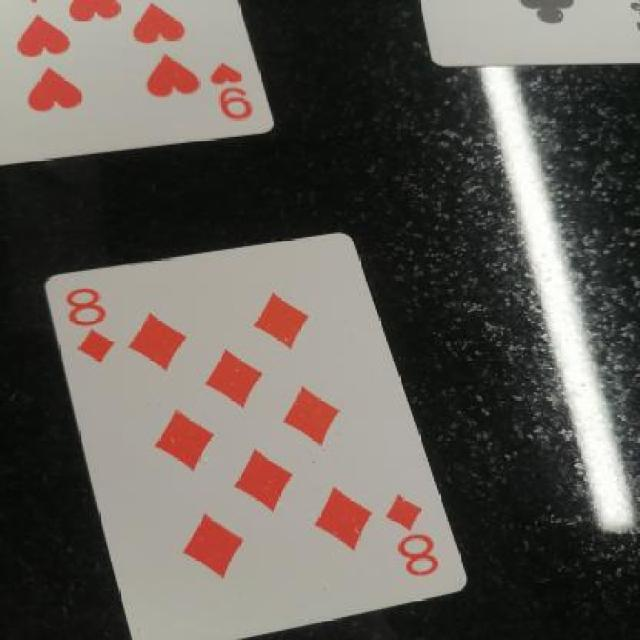8D: (387, 495, 459, 582), (58, 288, 116, 369)
